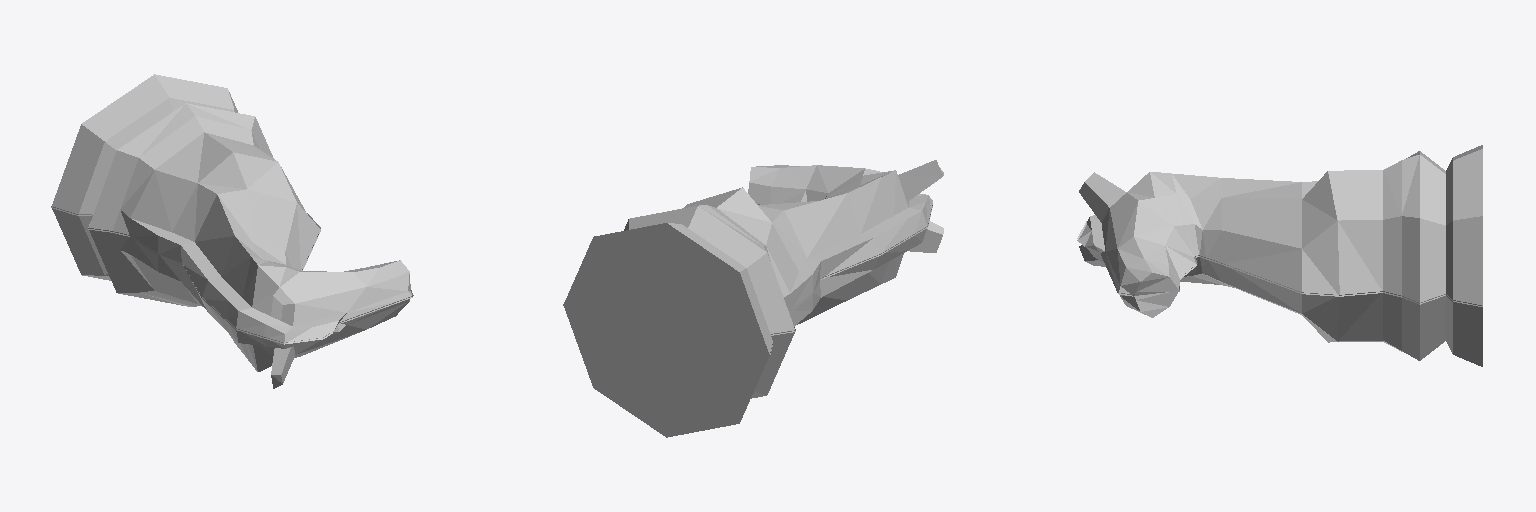
The model's file is ChessKnight.obj.
3 views of the same model, side by side, from view 1: azimuth 30°, elevation 25°; view 2: azimuth 150°, elevation 25°; view 3: azimuth 270°, elevation 25° (orthographic).
Parts seen in each view (by area): view 1: Knight_Cylinder.011; view 2: Knight_Cylinder.011; view 3: Knight_Cylinder.011.
Part boxes in pixels (left/top/right/bottom): Knight_Cylinder.011: left=51, top=74, right=413, bottom=388; Knight_Cylinder.011: left=563, top=160, right=943, bottom=437; Knight_Cylinder.011: left=1077, top=145, right=1482, bottom=366.
Bounding box in the file's own units: 3 × 2.97 × 5.09.